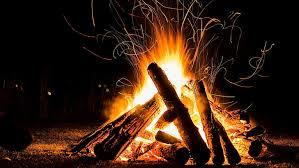Fire: (115, 45, 210, 139)
